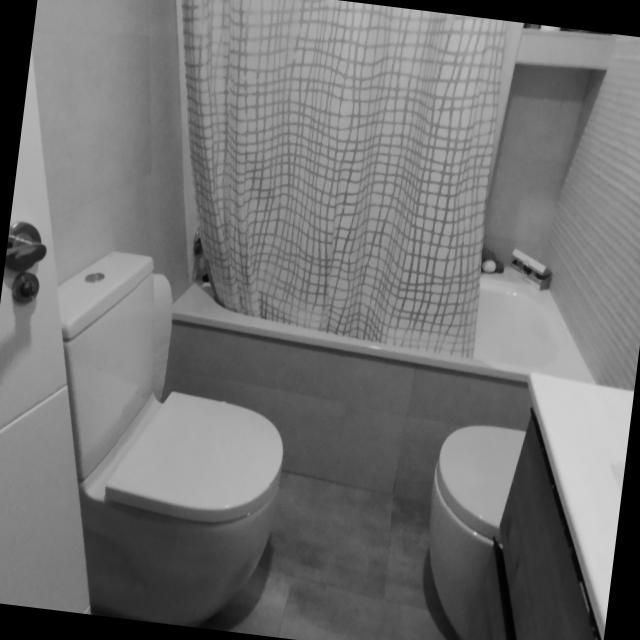bathtube: (164, 0, 595, 504)
table: (57, 252, 284, 628)
wardrobe: (474, 373, 634, 640)
